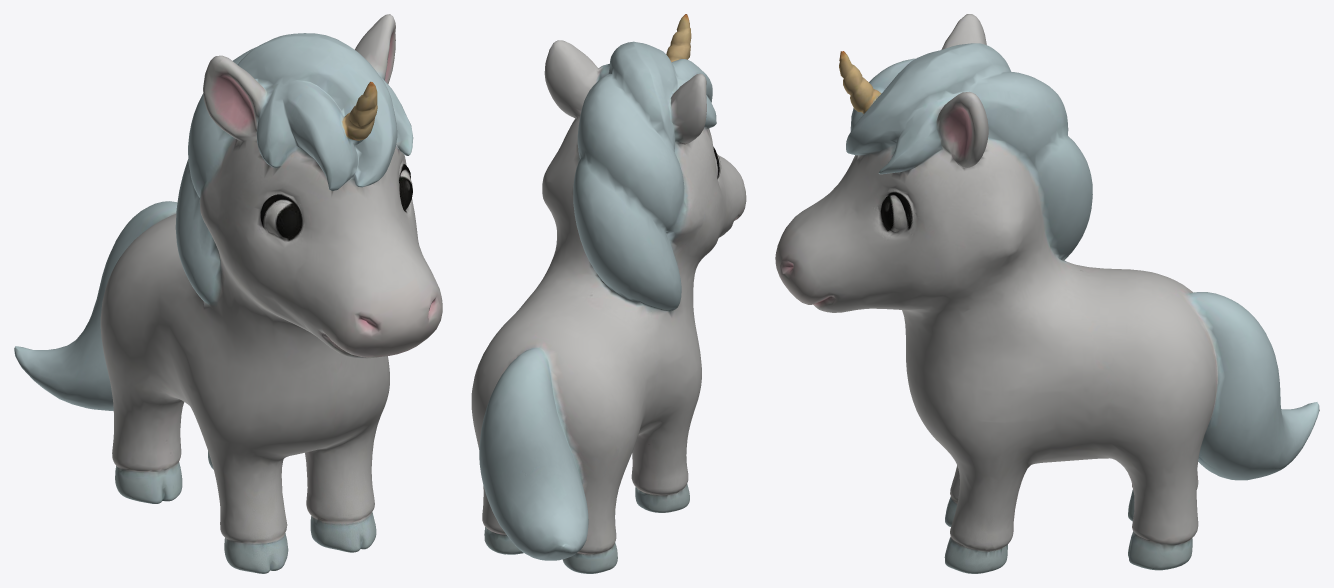
The model's file is unicorn.glb.
The picture shows the model from 3 angles, left to right: view 1: azimuth 30°, elevation 25°; view 2: azimuth 150°, elevation 25°; view 3: azimuth 270°, elevation 25°; orthographic projection. The views are drawn at different scales.
Visible parts, largest first — view 1: tripo_node_fd4ca3a3-1aca-49fb-904c-01857dea5492; view 2: tripo_node_fd4ca3a3-1aca-49fb-904c-01857dea5492; view 3: tripo_node_fd4ca3a3-1aca-49fb-904c-01857dea5492.
Boxes of the visible parts, left/top/right/bottom form: tripo_node_fd4ca3a3-1aca-49fb-904c-01857dea5492: left=14, top=14, right=442, bottom=573; tripo_node_fd4ca3a3-1aca-49fb-904c-01857dea5492: left=471, top=14, right=746, bottom=573; tripo_node_fd4ca3a3-1aca-49fb-904c-01857dea5492: left=775, top=14, right=1319, bottom=573.
Size of the model in its own units: 0.4009 by 0.9803 by 0.978.
1 material, 1 textured.
